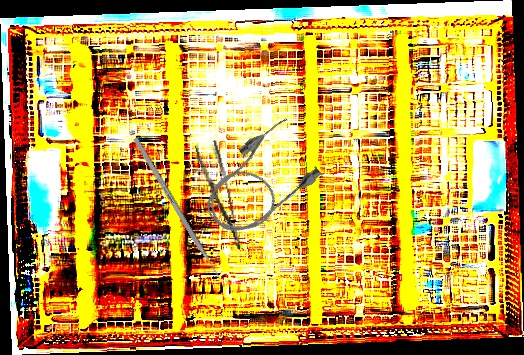Cannula: (188, 112, 330, 249)
Dressing Forceps: (193, 139, 244, 254)
Pusher: (132, 136, 228, 290)
